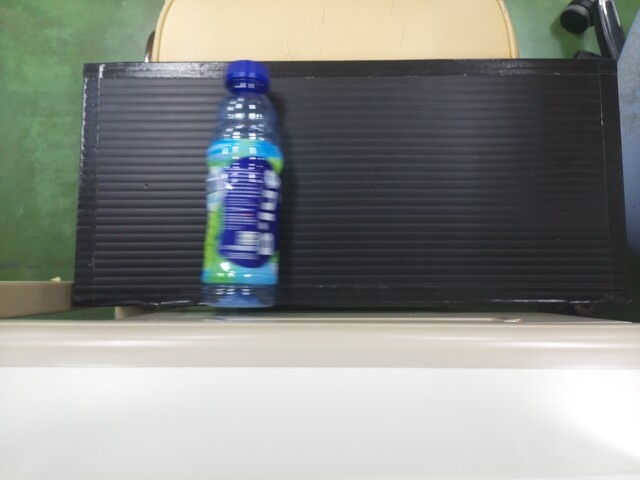plastic_bottle: (203, 49, 280, 303)
